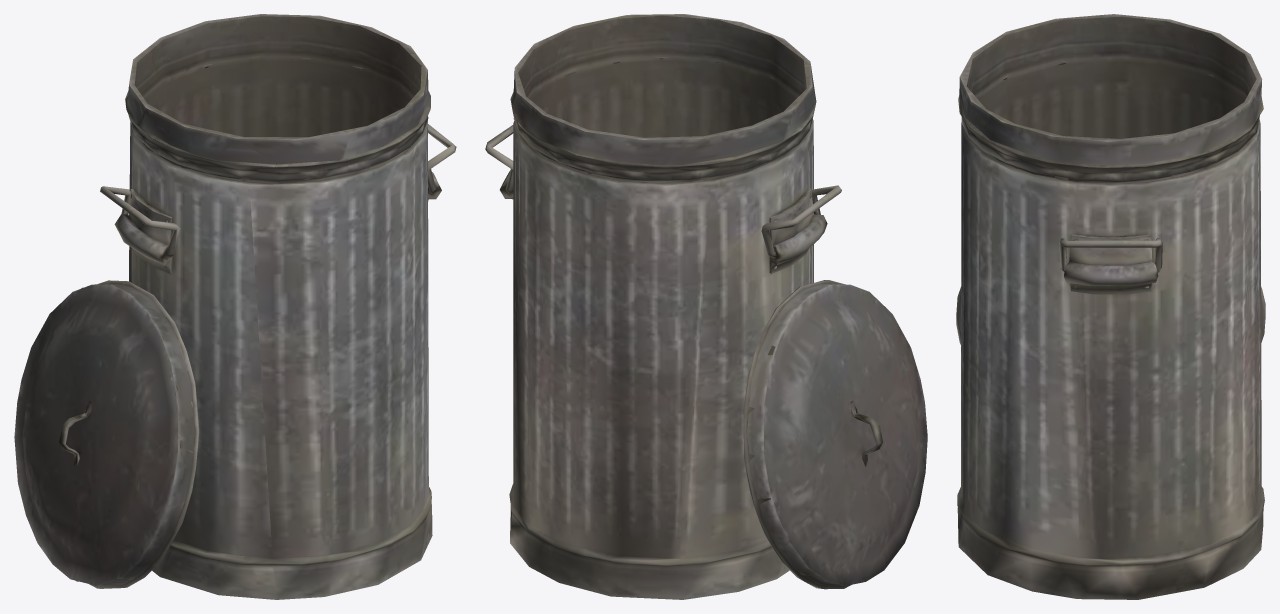
Rendered from yardprop_trash_can_metal.glb.
3 views of the same model, side by side, from view 1: azimuth 30°, elevation 25°; view 2: azimuth 150°, elevation 25°; view 3: azimuth 270°, elevation 25° (orthographic).
Visible parts, largest first — view 1: metal_trash_can, metal_trash_can_lid, metal_trash_can_handle_left, metal_trash_can_handle_right; view 2: metal_trash_can, metal_trash_can_lid, metal_trash_can_handle_left, metal_trash_can_handle_right; view 3: metal_trash_can, metal_trash_can_handle_right, metal_trash_can_lid.
Part boxes in pixels (left/top/right/bottom): metal_trash_can: left=114, top=14, right=441, bottom=599; metal_trash_can_lid: left=14, top=280, right=199, bottom=588; metal_trash_can_handle_left: left=100, top=186, right=180, bottom=257; metal_trash_can_handle_right: left=428, top=124, right=456, bottom=193; metal_trash_can: left=500, top=14, right=827, bottom=599; metal_trash_can_lid: left=743, top=280, right=927, bottom=589; metal_trash_can_handle_left: left=761, top=185, right=841, bottom=257; metal_trash_can_handle_right: left=485, top=125, right=513, bottom=193; metal_trash_can: left=957, top=14, right=1264, bottom=599; metal_trash_can_handle_right: left=1059, top=238, right=1162, bottom=272; metal_trash_can_lid: left=956, top=286, right=1265, bottom=344.
Bounding box in the file's own units: 0.7793 × 0.9062 × 0.5552.
1 material, 1 textured.
